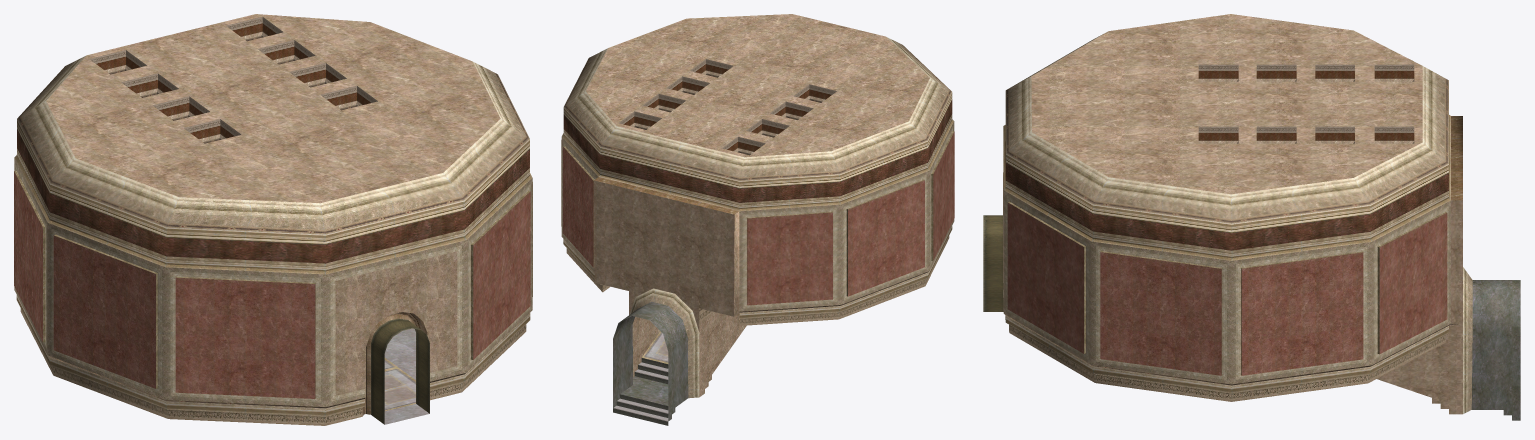
File: thm_nboo_thed_theed_palace_r34_mesh_r34.fbx
The picture shows the model from 3 angles, left to right: view 1: azimuth 30°, elevation 25°; view 2: azimuth 150°, elevation 25°; view 3: azimuth 270°, elevation 25°; orthographic projection. The views are drawn at different scales.
Visible parts, largest first — view 1: mesh_node; view 2: mesh_node; view 3: mesh_node.
Boxes of the visible parts, <box> form: mesh_node: <box>14,14,532,425</box>; mesh_node: <box>561,14,954,425</box>; mesh_node: <box>983,14,1520,420</box>.
Bounding box in the file's own units: 24.55 × 17 × 27.13.
